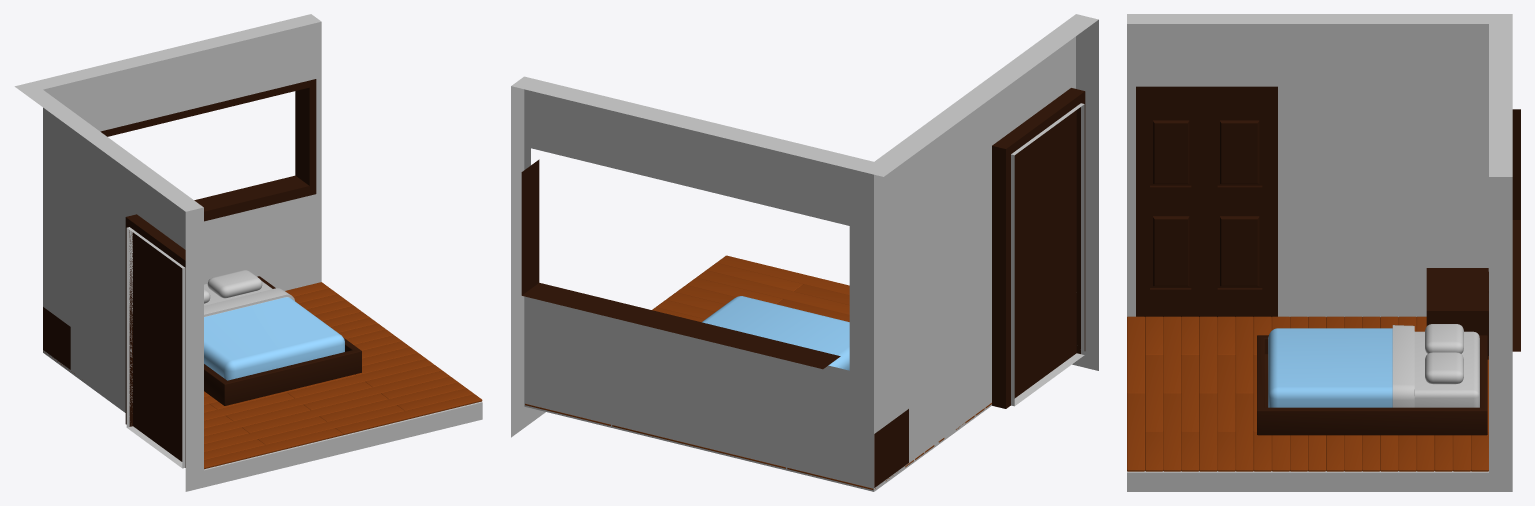
File: room.obj
The picture shows the model from 3 angles, left to right: view 1: azimuth 30°, elevation 25°; view 2: azimuth 150°, elevation 25°; view 3: azimuth 270°, elevation 25°; orthographic projection. The views are drawn at different scales.
Visible parts, largest first — view 1: Cube, Plane.001, Cube.001, Cube.006, Cube.003, Cube.004, Cube.002, Cube.009, Cube.008; view 2: Cube, Cube.001, Cube.002, Plane.001, Cube.003, Cube.006, Cube.009; view 3: Cube, Plane.001, Cube.001, Cube.006, Cube.004, Cube.002, Cube.009, Cube.005, Cube.003, Cube.008, Cube.007.
Part boxes in pixels (box(x1,y1,x2,y2)): Cube: box(14, 14, 482, 491); Plane.001: box(43, 282, 482, 469); Cube.001: box(133, 232, 182, 461); Cube.006: box(204, 288, 344, 380); Cube.003: box(100, 79, 316, 221); Cube.004: box(204, 276, 361, 405); Cube.002: box(125, 214, 185, 467); Cube.009: box(43, 307, 70, 369); Cube.008: box(207, 270, 262, 298); Cube: box(511, 14, 1098, 491); Cube.001: box(1014, 110, 1076, 398); Cube.002: box(992, 88, 1085, 408); Plane.001: box(525, 255, 991, 489); Cube.003: box(521, 159, 840, 369); Cube.006: box(702, 296, 849, 370); Cube.009: box(874, 409, 908, 487); Cube: box(1127, 14, 1512, 491); Plane.001: box(1127, 316, 1488, 471); Cube.001: box(1143, 94, 1268, 316); Cube.006: box(1268, 325, 1414, 407); Cube.004: box(1257, 335, 1487, 435); Cube.002: box(1136, 86, 1277, 316); Cube.009: box(1426, 268, 1488, 359); Cube.005: box(1414, 331, 1479, 407); Cube.003: box(1512, 109, 1520, 351); Cube.008: box(1425, 352, 1463, 384); Cube.007: box(1425, 324, 1463, 353).
Size of the model in its own units: 3.25 by 2.93 by 3.32.
